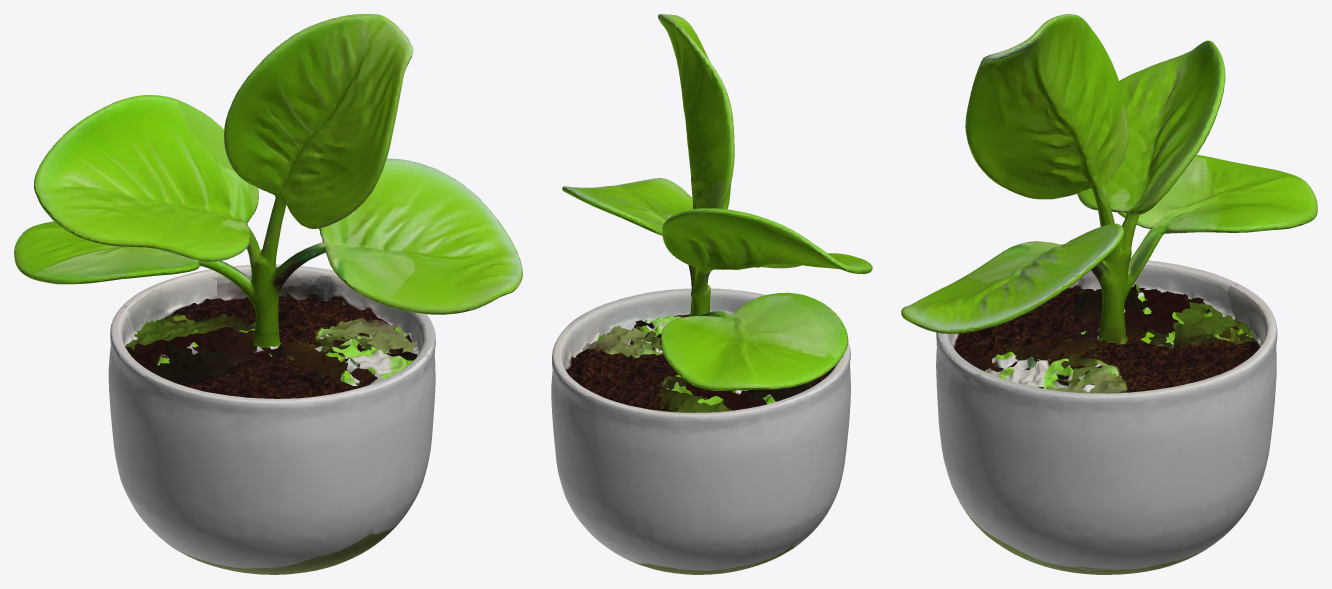
The model's file is biomechanical-growth-planter-generated-2026-04-18T02-42-42-855Z.high.glb.
3 views of the same model, side by side, from view 1: azimuth 30°, elevation 25°; view 2: azimuth 150°, elevation 25°; view 3: azimuth 270°, elevation 25° (orthographic). The views are drawn at different scales.
Parts seen in each view (by area): view 1: temp_mesh.ply; view 2: temp_mesh.ply; view 3: temp_mesh.ply.
Boxes of the visible parts, x1,y1,x2,y2 form: temp_mesh.ply: [14, 14, 522, 574]; temp_mesh.ply: [551, 14, 872, 574]; temp_mesh.ply: [901, 14, 1317, 574].
Size of the model in its own units: 1.48 by 1.97 by 1.34.
Materials: 1 (1 with a texture image).
